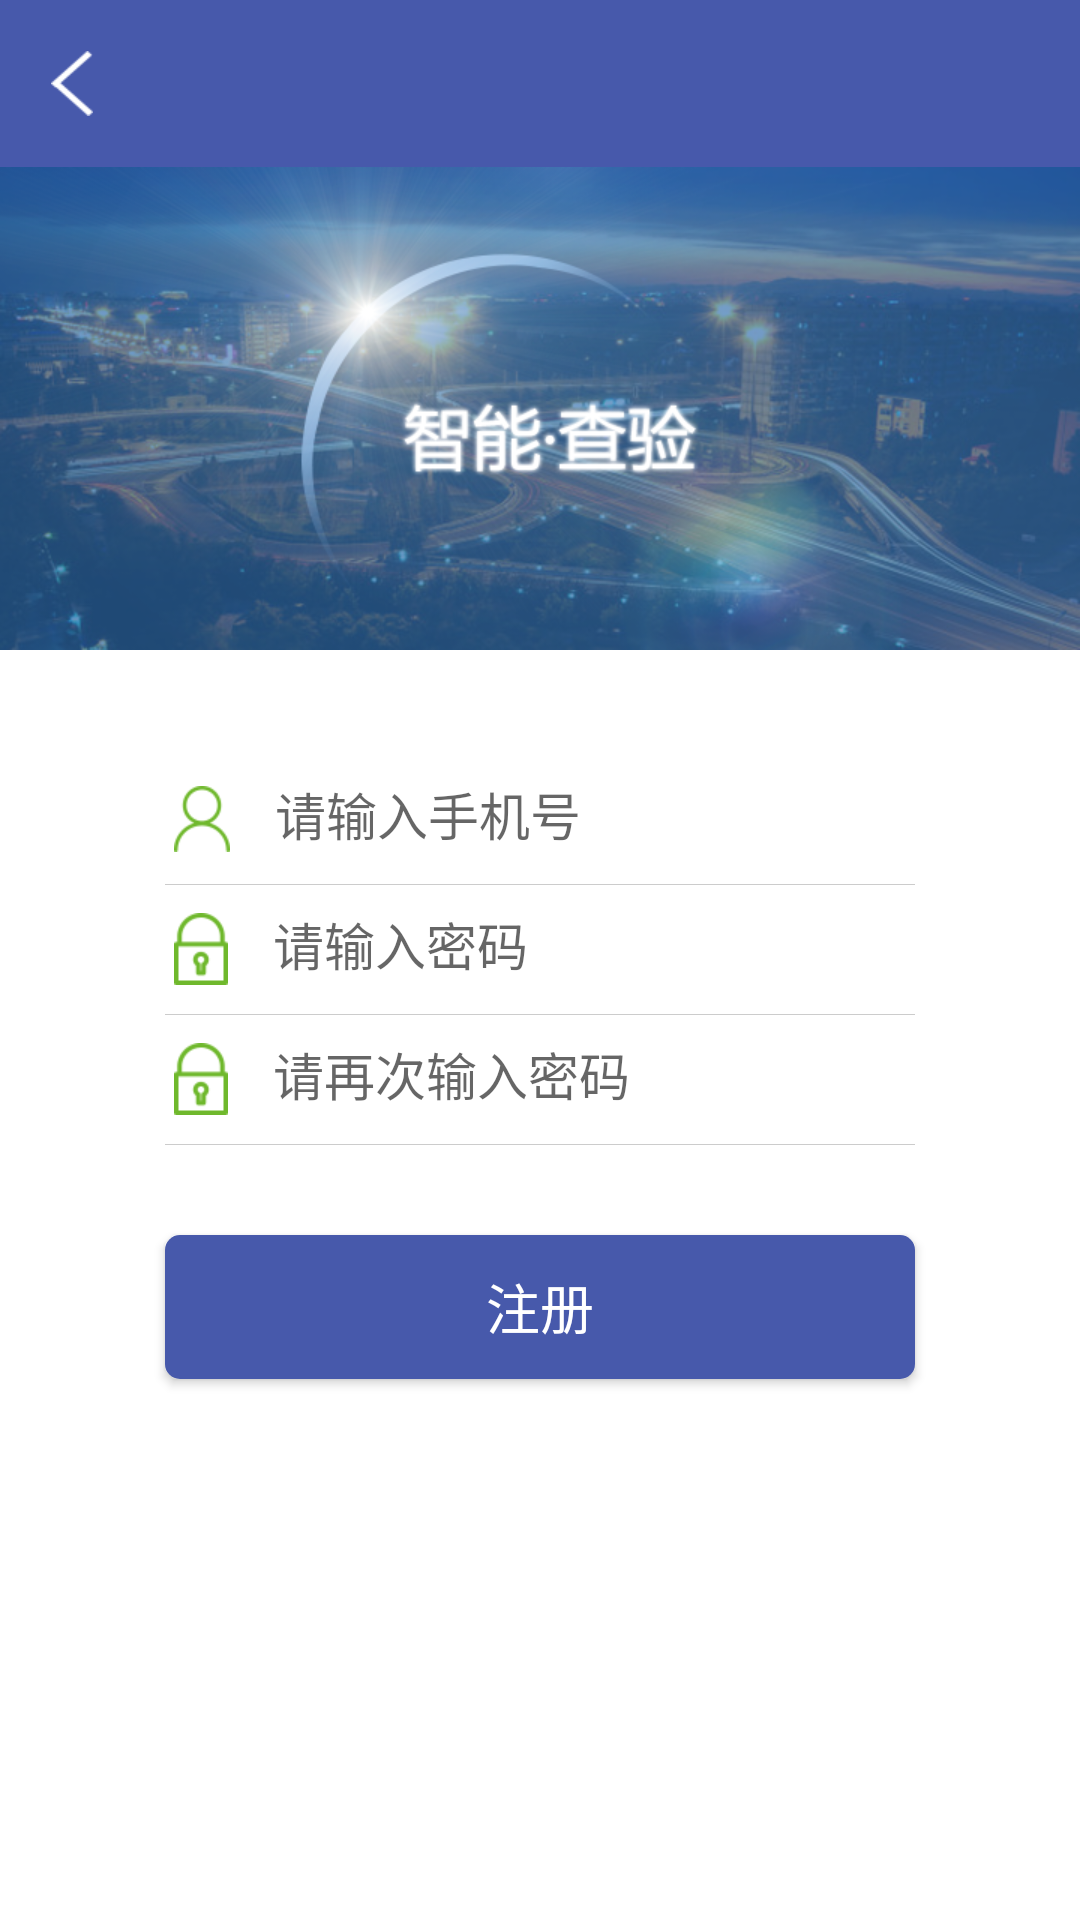

Icon click points for this 1080×1920 phone screenshot, format (x,y):
arrow back: (72,83)
register pass: (201,949), (201,1079)
